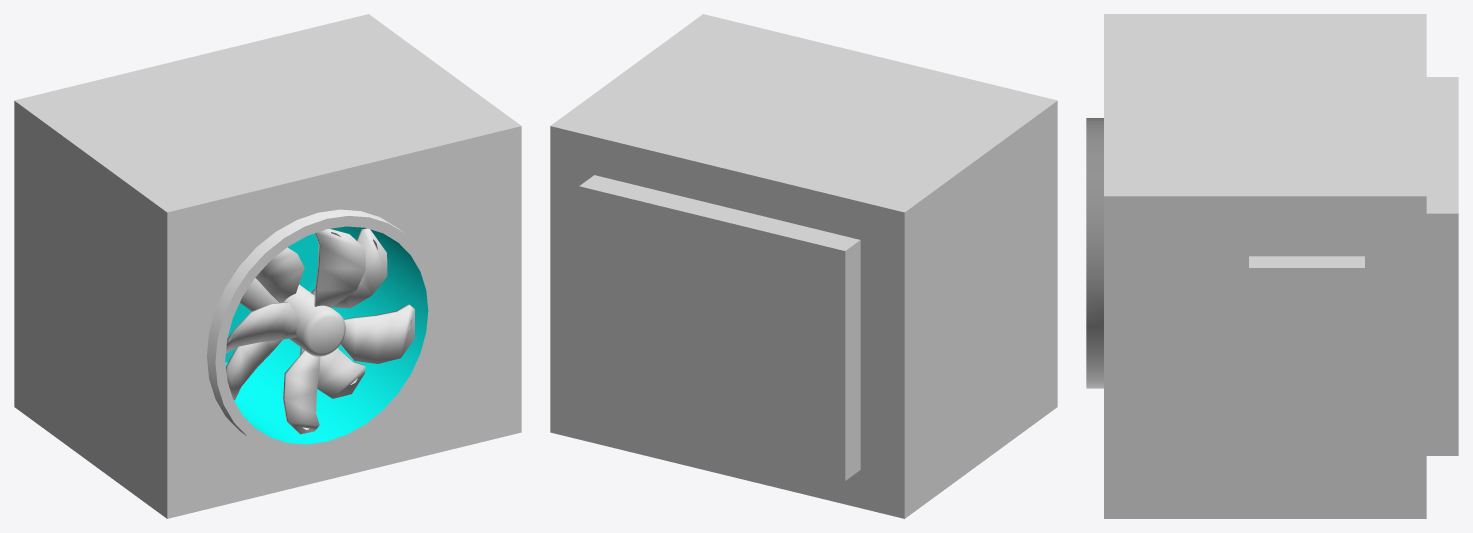
File: BuildingM4.fbx
3 renders of one model, left to right at view 1: azimuth 30°, elevation 25°; view 2: azimuth 150°, elevation 25°; view 3: azimuth 270°, elevation 25°, orthographic. The views are drawn at different scales.
Visible parts, largest first — view 1: M4; view 2: M4; view 3: M4.
Part boxes in pixels (left/top/right/bottom): M4: left=14, top=14, right=521, bottom=518; M4: left=550, top=14, right=1057, bottom=518; M4: left=1086, top=14, right=1458, bottom=518.
Size of the model in its own units: 502 by 390 by 408.
